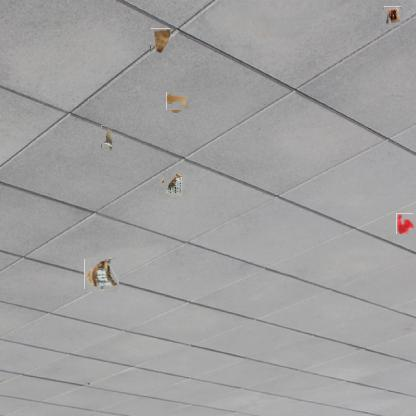dirty: (86, 258, 118, 291), (161, 173, 185, 197), (150, 28, 170, 53), (383, 7, 402, 25), (101, 125, 113, 151)
liquid: (168, 91, 188, 112), (396, 213, 413, 234)
